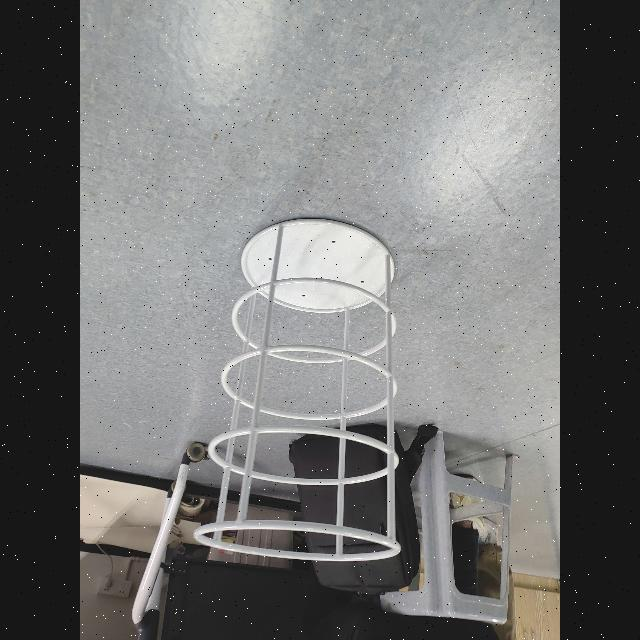S: (190, 215, 406, 567)
